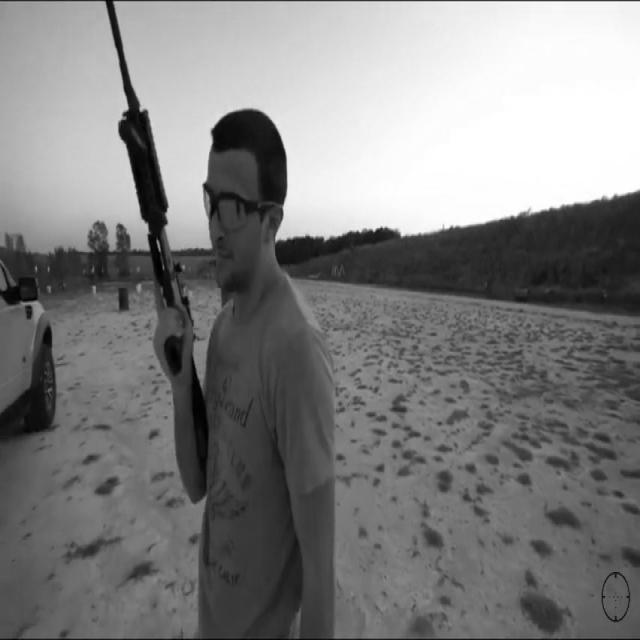Rifle: (80, 12, 200, 517)
